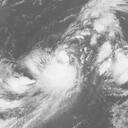cyclone: (34, 57, 80, 97)
